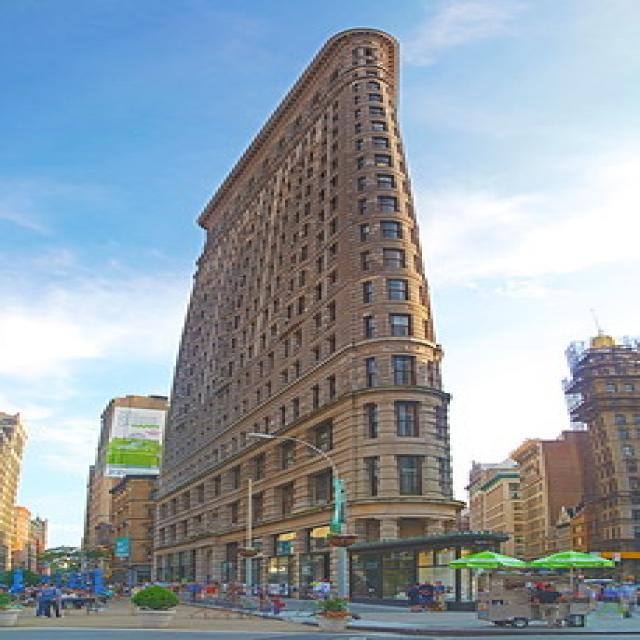Normal_building: (133, 25, 479, 613)
